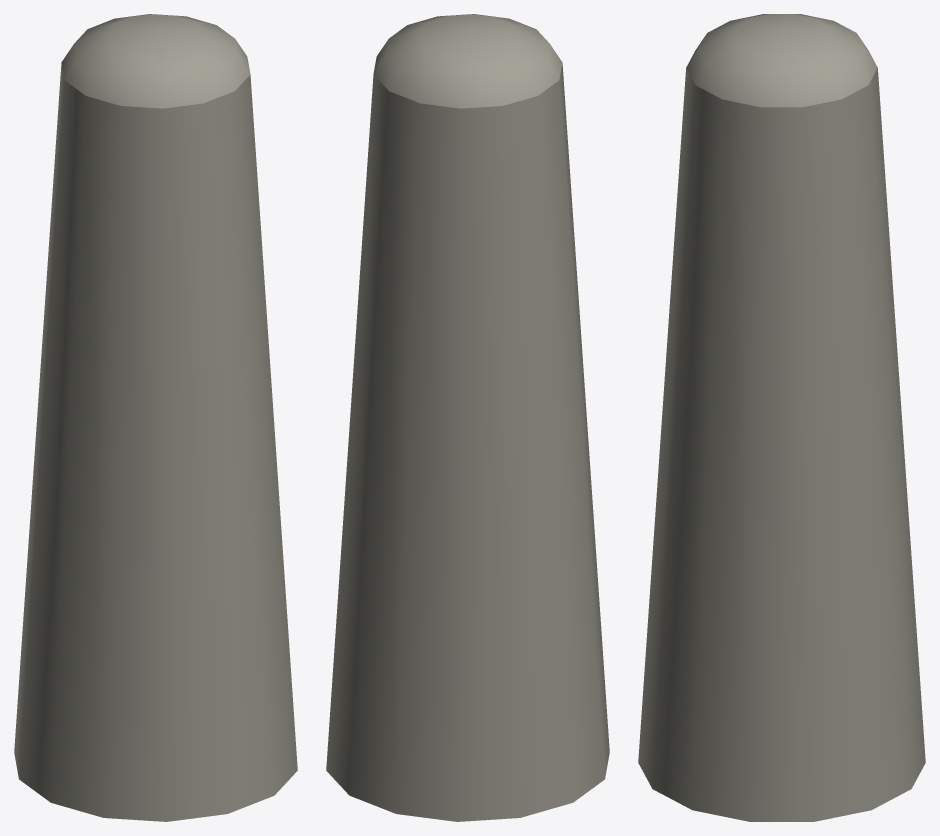
Rendered from bollard_concrete_lod1.glb.
3 renders of one model, left to right at view 1: azimuth 30°, elevation 25°; view 2: azimuth 150°, elevation 25°; view 3: azimuth 270°, elevation 25°, orthographic.
Visible parts, largest first — view 1: bollard_concrete; view 2: bollard_concrete; view 3: bollard_concrete.
Part boxes in pixels (x1=…): bollard_concrete: x1=14, y1=14, x2=297, y2=821; bollard_concrete: x1=326, y1=14, x2=609, y2=821; bollard_concrete: x1=638, y1=14, x2=925, y2=821.
Size of the model in its own units: 0.2925 by 0.845 by 0.3.
Materials: 1 (1 with a texture image).
